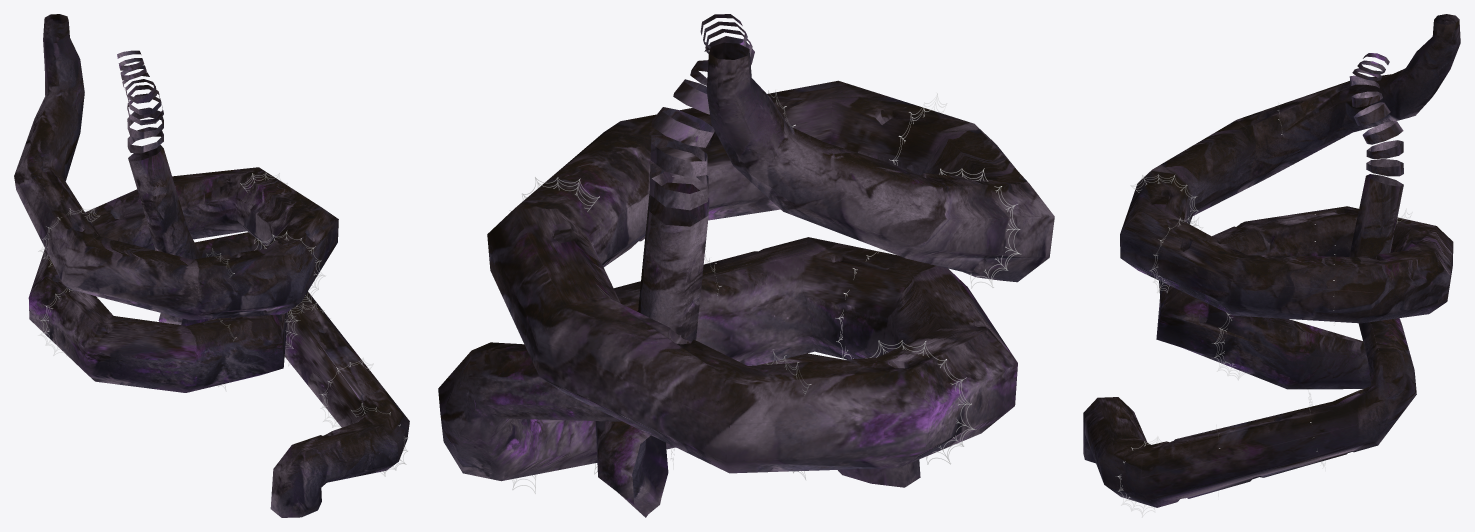
Rendered from spiderTube.glb.
The picture shows the model from 3 angles, left to right: view 1: azimuth 30°, elevation 25°; view 2: azimuth 150°, elevation 25°; view 3: azimuth 270°, elevation 25°; orthographic projection. The views are drawn at different scales.
Visible parts, largest first — view 1: tunnel2Waterfall, spiderTubeWeb; view 2: tunnel2Waterfall, spiderTubeWeb; view 3: tunnel2Waterfall, spiderTubeWeb.
Part boxes in pixels (x1,y1,x2,y2): tunnel2Waterfall: [14, 14, 409, 517]; spiderTubeWeb: [38, 173, 408, 476]; tunnel2Waterfall: [438, 14, 1054, 517]; spiderTubeWeb: [509, 89, 1021, 493]; tunnel2Waterfall: [1083, 14, 1460, 507]; spiderTubeWeb: [1116, 110, 1412, 517].
Size of what is drawn, in the model's own units: 31.9 by 39.26 by 33.
Materials: 2 (2 with a texture image).
